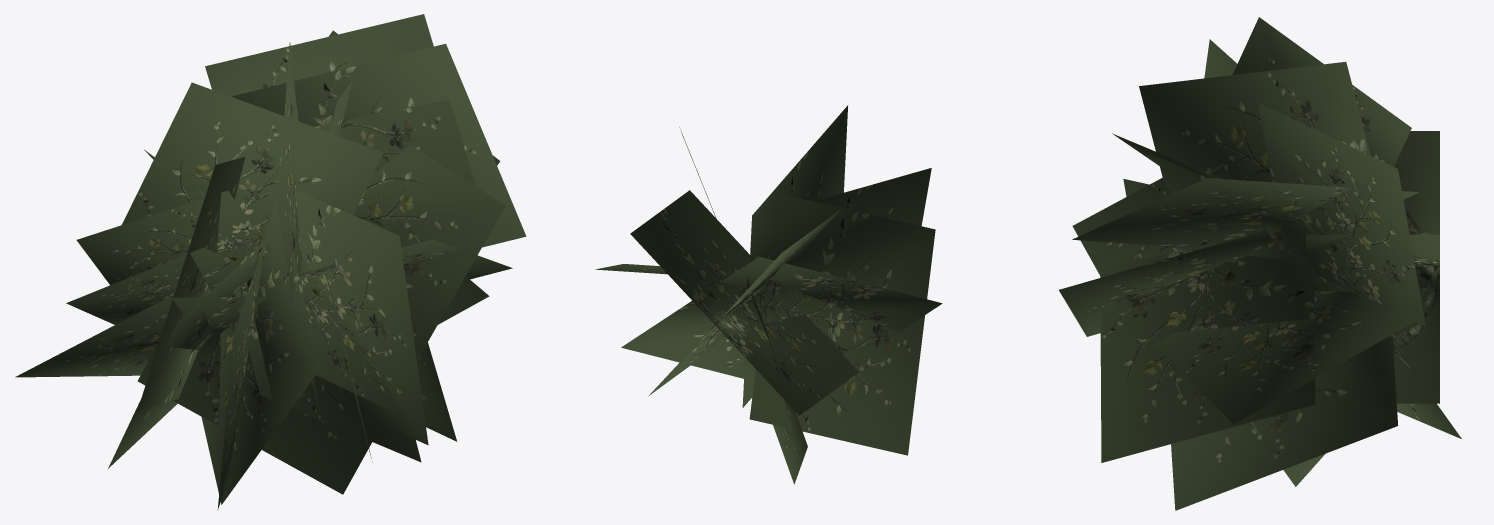
Rendered from caen_spikeybush_01.glb.
3 views of the same model, side by side, from view 1: azimuth 30°, elevation 25°; view 2: azimuth 150°, elevation 25°; view 3: azimuth 270°, elevation 25° (orthographic). The views are drawn at different scales.
Bounding box in the file's own units: 173 × 155 × 127.
1 material, 1 textured.
